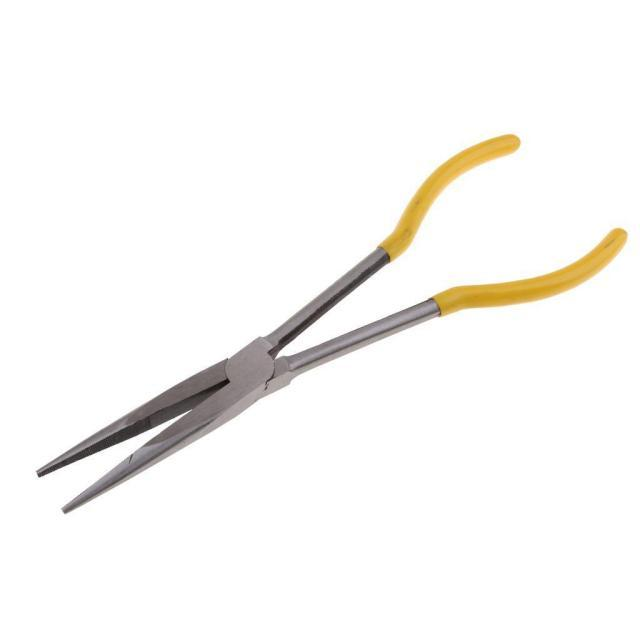pliers: (34, 128, 634, 524)
